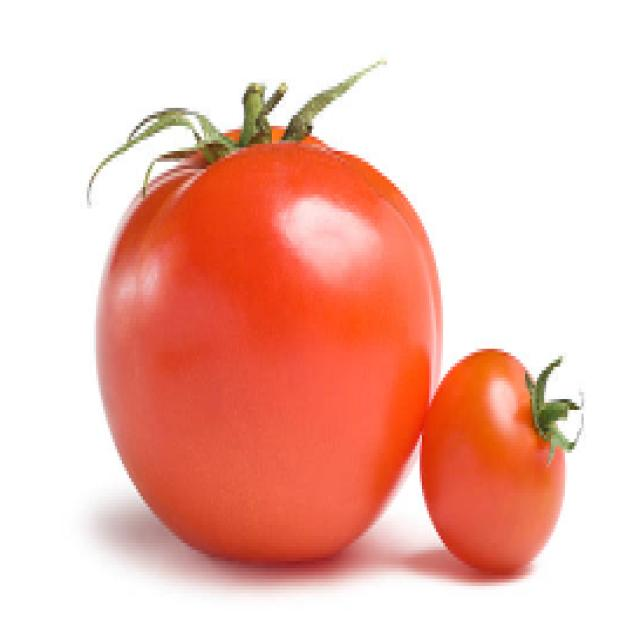Tomato: (89, 75, 428, 559)
